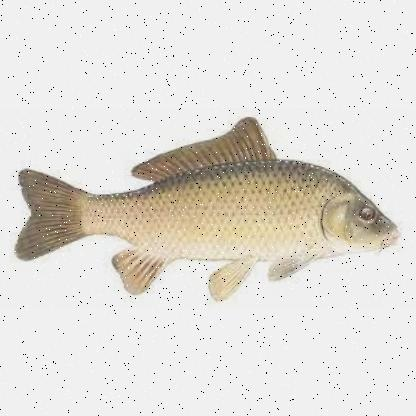ikan-mas: (12, 129, 398, 278)
